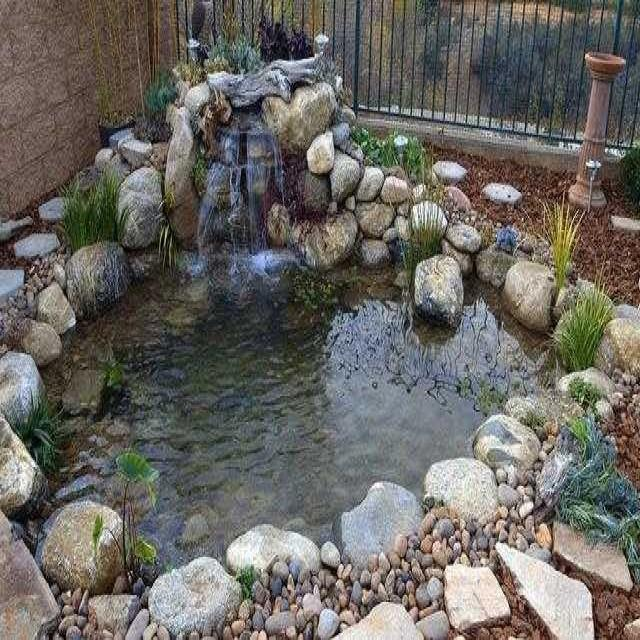Ponds: (1, 84, 640, 640)
